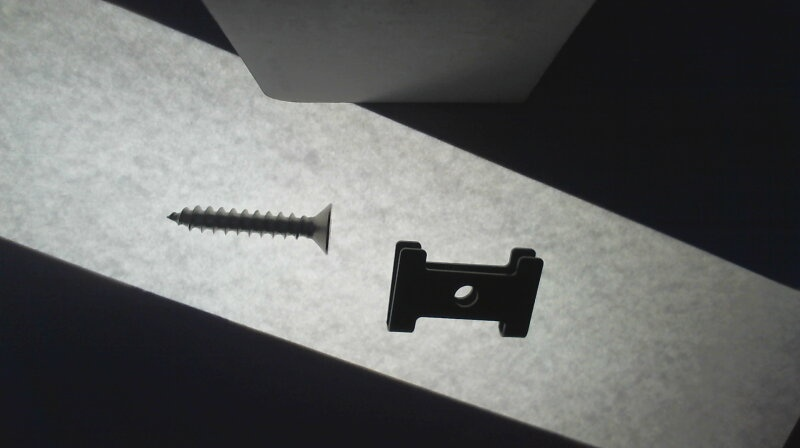O002: (379, 240, 546, 336)
S001: (165, 203, 335, 256)
